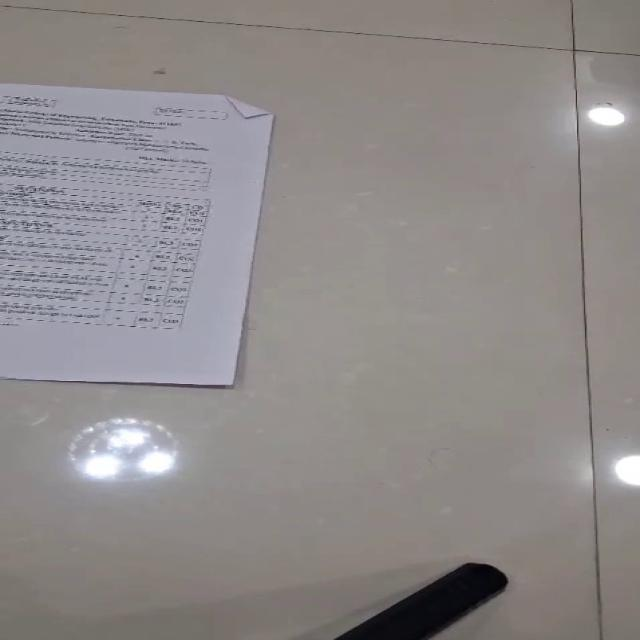paper: (0, 81, 274, 386)
